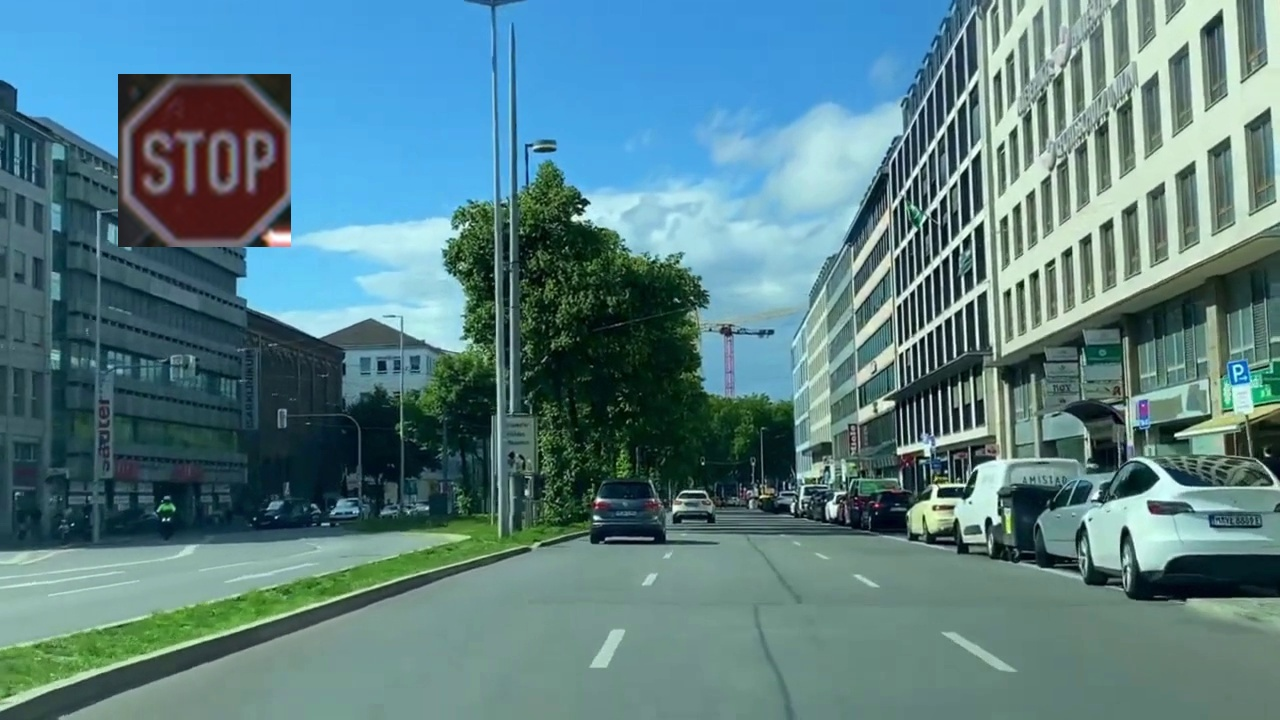Stop: (118, 74, 291, 247)
